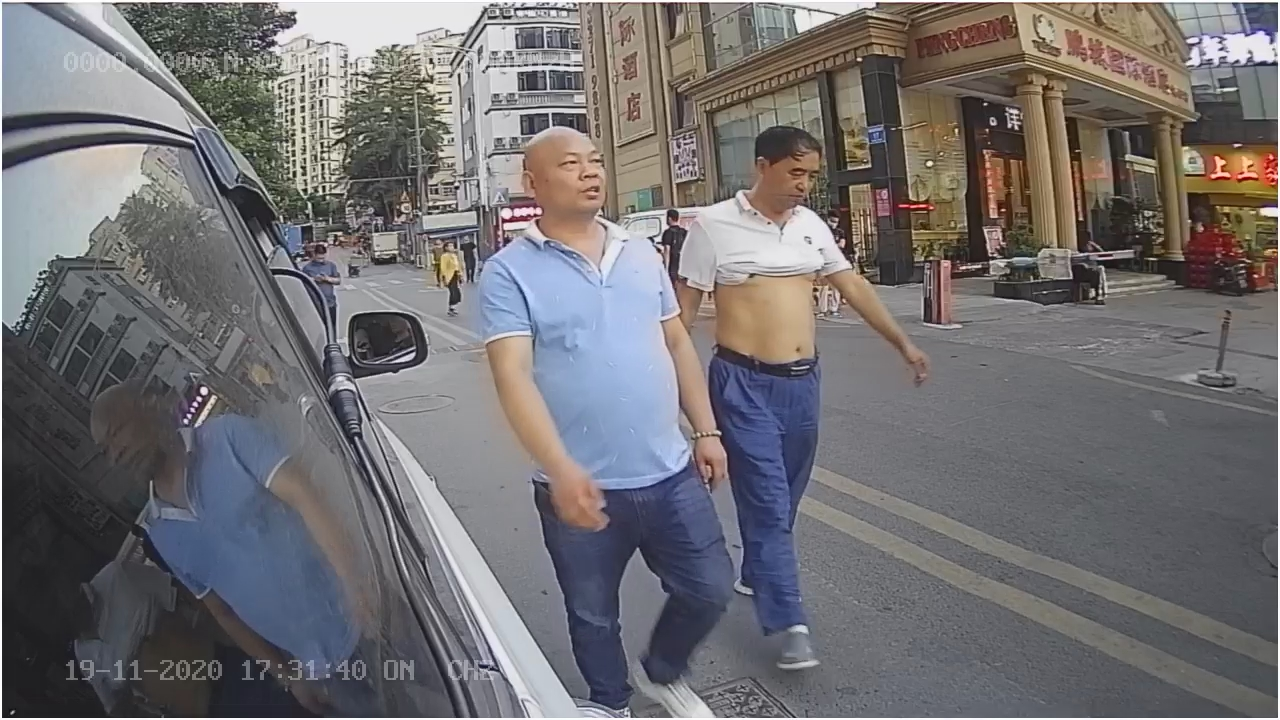person: (458, 119, 707, 505)
